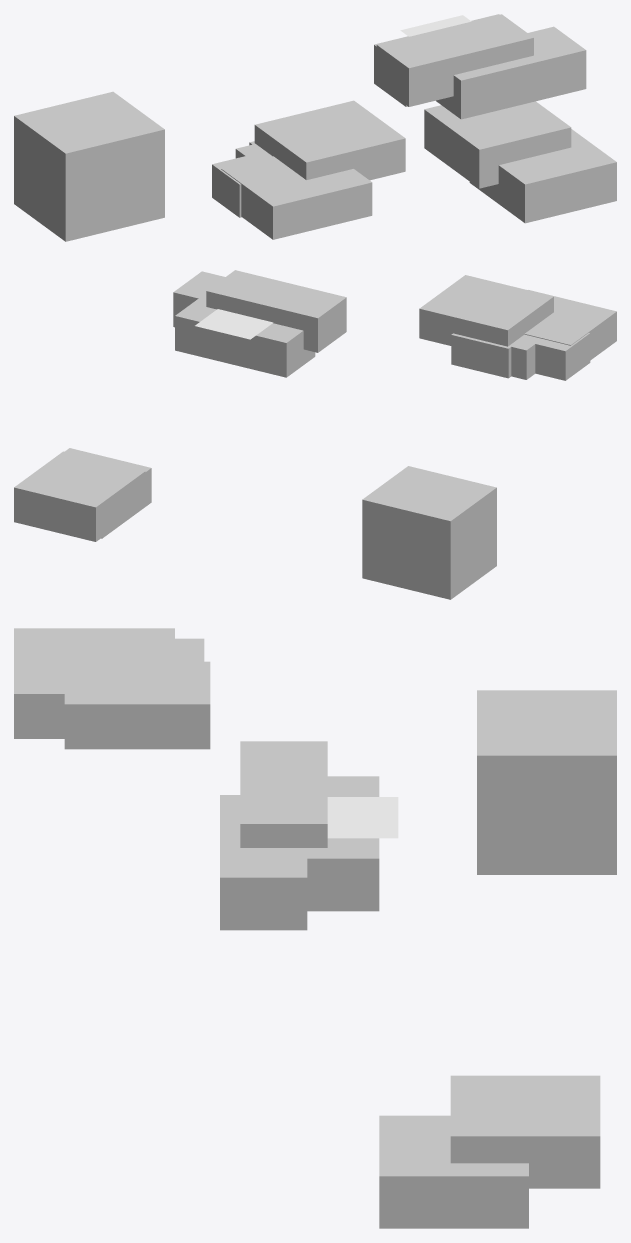
File: GameObject (1).fbx
The picture shows the model from 3 angles, top to bottom: view 1: azimuth 30°, elevation 25°; view 2: azimuth 150°, elevation 25°; view 3: azimuth 270°, elevation 25°; orthographic projection. The views are drawn at different scales.
Parts seen in each view (by area): view 1: BaseFloor (204), BaseFloor (174), BaseFloor (183), BaseFloor (189), BaseFloor (175), BaseFloor (188), BaseFloor (181), BaseFloor (173), 90%; view 2: BaseFloor (204), BaseFloor (189), BaseFloor (174), BaseFloor (183), BaseFloor (182), BaseFloor (175), BaseFloor (171), BaseFloor (173), 90%, BaseFloor (181), BaseFloor (172), BaseFloor (188); view 3: BaseFloor (204), BaseFloor (174), BaseFloor (189), BaseFloor (188), BaseFloor (183), BaseFloor (181), BaseFloor (175), BaseFloor (182), 90%.
Part boxes in pixels (x1,y1,x2,y2): BaseFloor (204): (14,91,164,241); BaseFloor (174): (254,100,405,180); BaseFloor (183): (376,14,533,106); BaseFloor (189): (424,101,571,188); BaseFloor (175): (221,156,372,239); BaseFloor (188): (469,129,616,223); BaseFloor (181): (436,26,586,119); BaseFloor (173): (212,152,271,217); 90%: (400,15,471,36); BaseFloor (204): (362,466,496,599); BaseFloor (189): (14,451,145,541); BaseFloor (174): (419,275,553,346); BaseFloor (183): (206,270,346,352); BaseFloor (182): (175,298,315,377); BaseFloor (175): (524,290,616,360); BaseFloor (171): (451,333,526,378); BaseFloor (173): (523,333,590,380); 90%: (195,309,273,339); BaseFloor (181): (173,271,224,327); BaseFloor (172): (509,335,541,379); BaseFloor (188): (65,448,151,538); BaseFloor (204): (477,690,616,874); BaseFloor (174): (64,638,204,749); BaseFloor (189): (450,1075,600,1188); BaseFloor (188): (379,1115,528,1228); BaseFloor (183): (240,741,327,847); BaseFloor (181): (220,795,307,930); BaseFloor (175): (14,628,153,738); BaseFloor (182): (292,776,379,911); 90%: (327,797,398,838).
Bounding box in the file's own units: 85.67 × 37.12 × 64.17.
